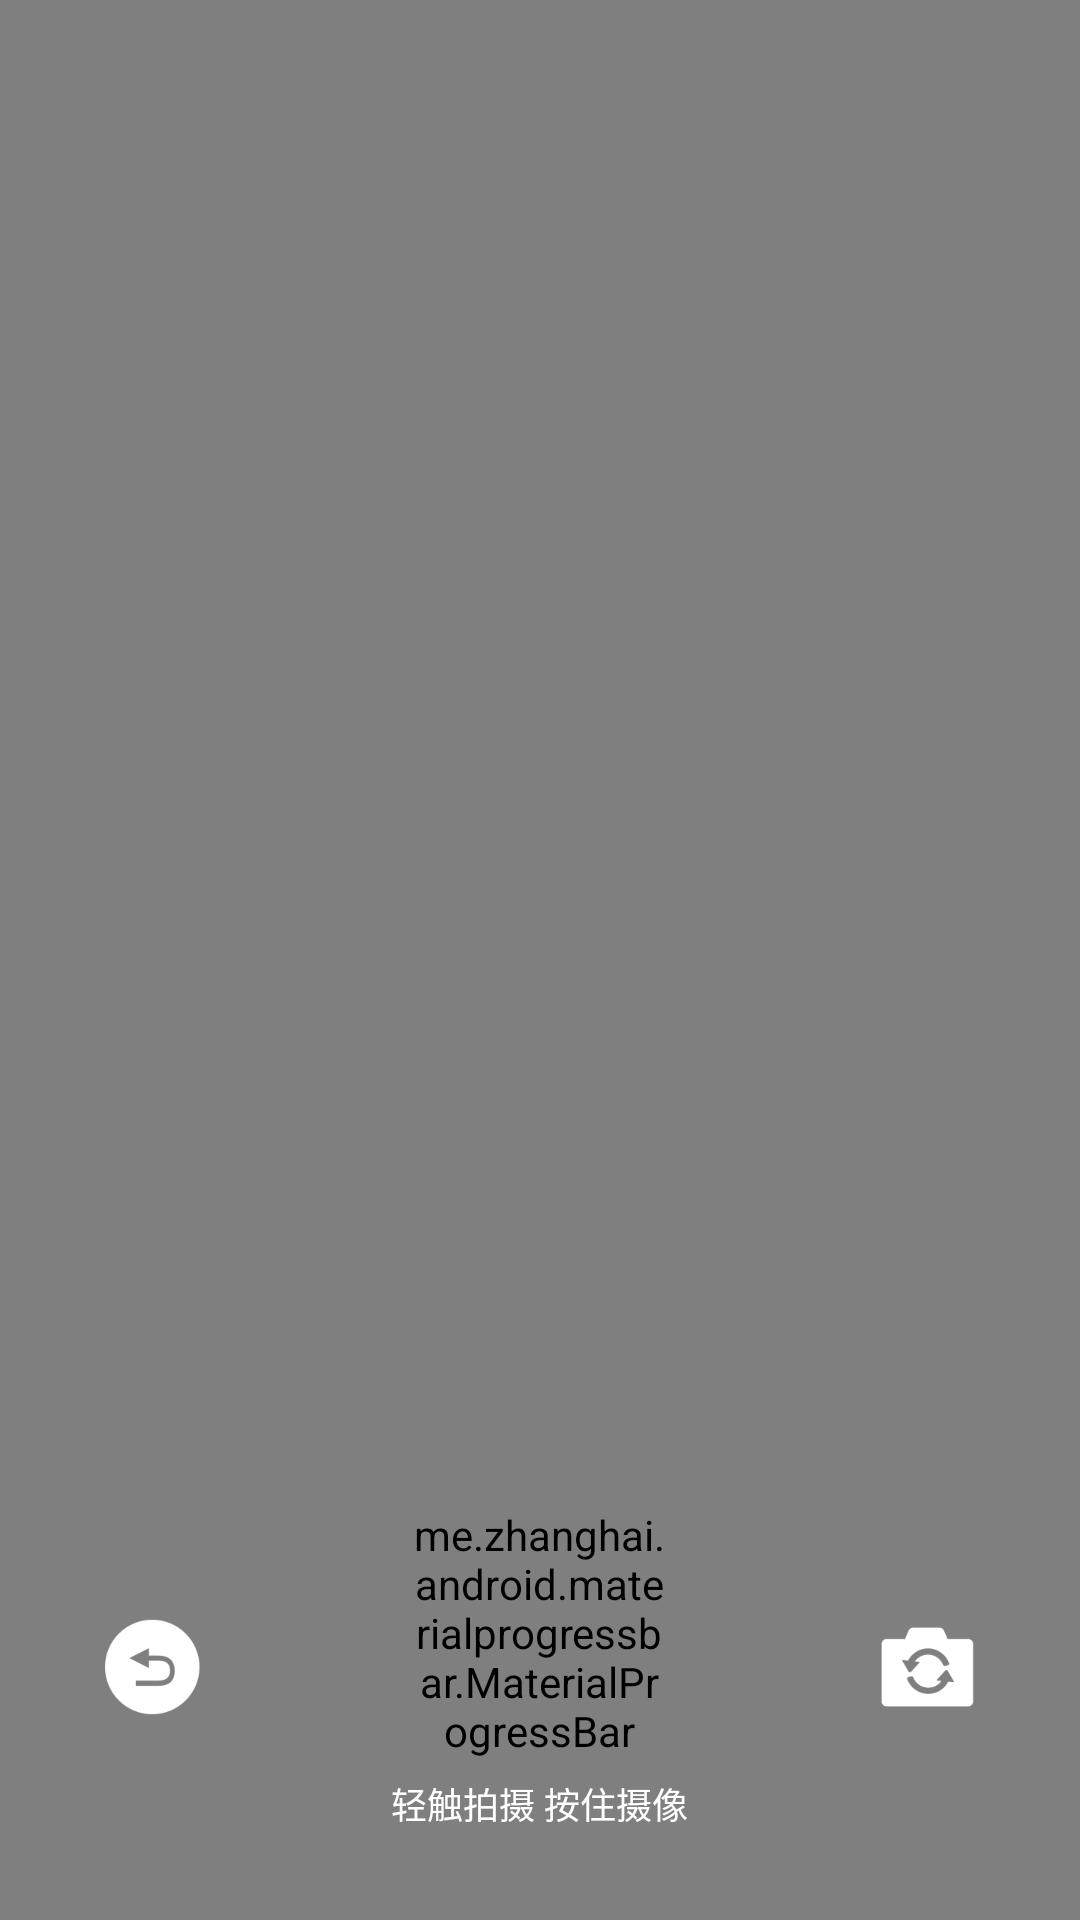

Named icons in this screenshot (1080*1920) and their centers, (x,y):
record video again: (152,1667)
record video reverse: (927,1667)
